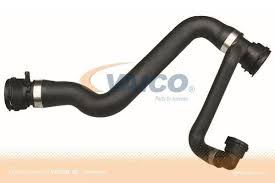radiator_hose: (7, 16, 269, 117)
